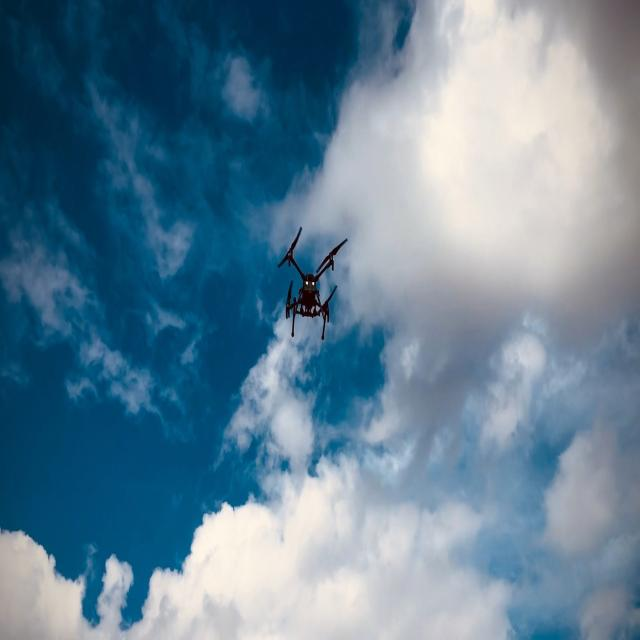drone: (277, 225, 348, 341)
